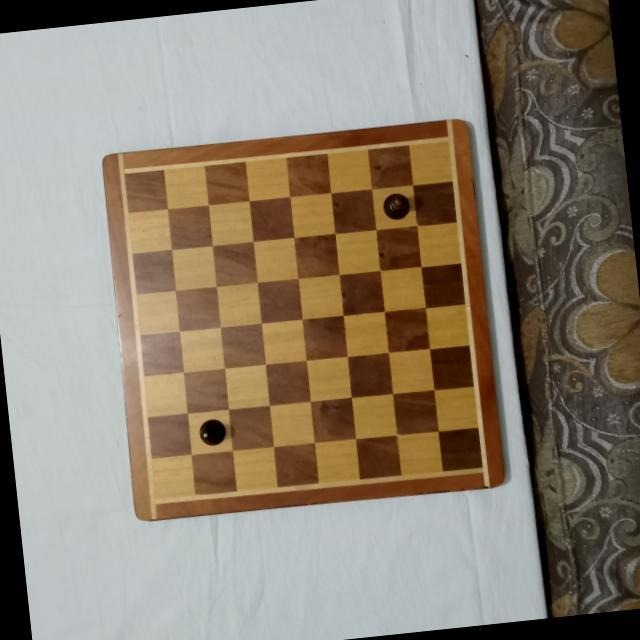black-pawn: (380, 188, 411, 220), (196, 414, 226, 446)
